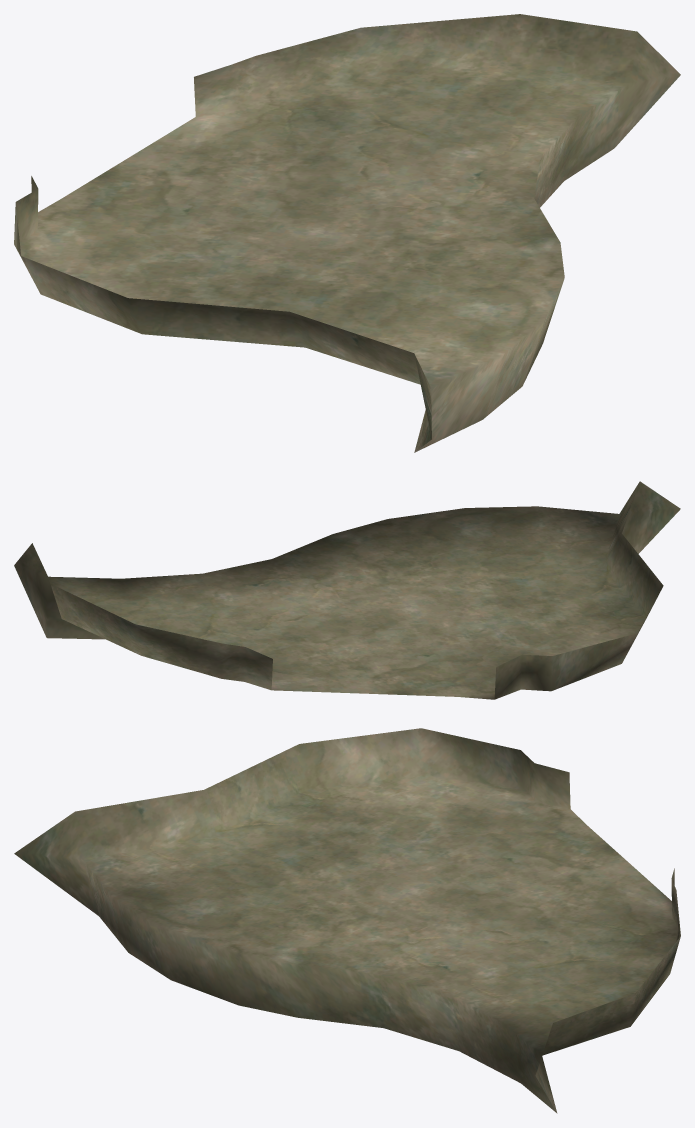
Rendered from EKH_CAVERNS_PS_CA_PLATFORM0099884.fbx.
The picture shows the model from 3 angles, top to bottom: view 1: azimuth 30°, elevation 25°; view 2: azimuth 150°, elevation 25°; view 3: azimuth 270°, elevation 25°; orthographic projection. The views are drawn at different scales.
Visible parts, largest first — view 1: EKH_CAVERNS_PS_CA_PLATFORM0099884; view 2: EKH_CAVERNS_PS_CA_PLATFORM0099884; view 3: EKH_CAVERNS_PS_CA_PLATFORM0099884.
Part boxes in pixels (left/top/right/bottom): EKH_CAVERNS_PS_CA_PLATFORM0099884: left=14, top=14, right=680, bottom=452; EKH_CAVERNS_PS_CA_PLATFORM0099884: left=14, top=481, right=680, bottom=699; EKH_CAVERNS_PS_CA_PLATFORM0099884: left=14, top=728, right=680, bottom=1113.
Bounding box in the file's own units: 72583 × 10891 × 66078.
1 material, 1 textured.
